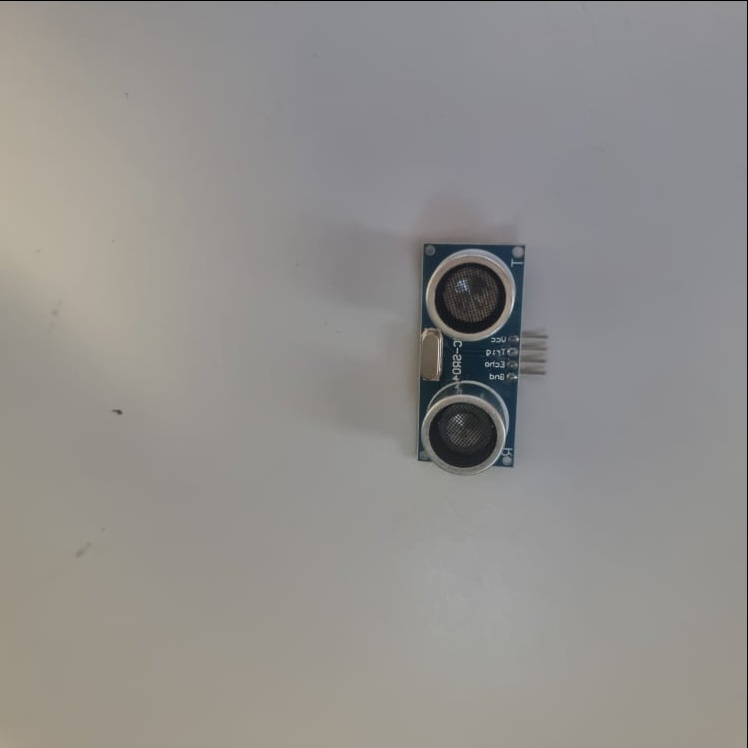SENSOR: (418, 243, 531, 472)
